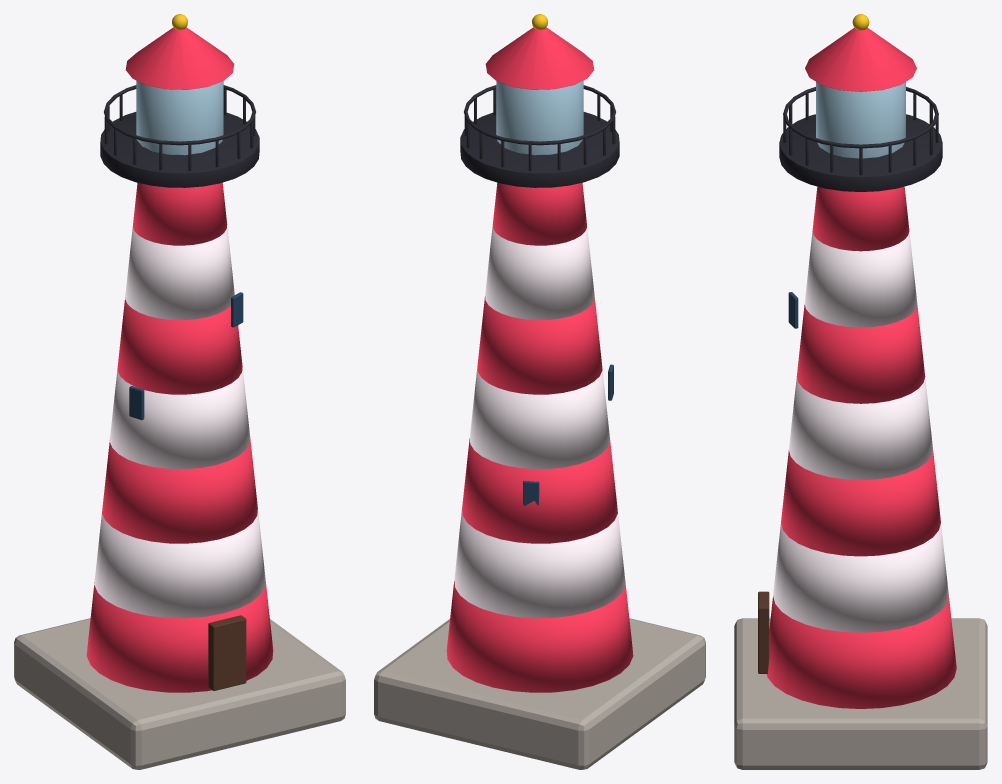
The model's file is mercusuar.glb.
3 renders of one model, left to right at view 1: azimuth 30°, elevation 25°; view 2: azimuth 150°, elevation 25°; view 3: azimuth 270°, elevation 25°, orthographic. The views are drawn at different scales.
Parts seen in each view (by area): view 1: Cube, Cone.001, Cone.002, Cone, Cone.003, Cone.004, Cone.005, Cylinder, Cylinder.017, Cone.006, Cone.007, Cube.005 (+1 smaller); view 2: Cube, Cone, Cone.001, Cone.002, Cone.003, Cone.004, Cone.005, Cylinder, Cylinder.017, Cone.006, Cone.007, Torus; view 3: Cube, Cone, Cone.001, Cone.002, Cone.003, Cone.004, Cone.005, Cylinder, Cylinder.017, Cone.006, Cone.007, Torus (+1 smaller).
Part boxes in pixels (x1=…): Cube: x1=14, y1=618, x2=345, y2=769; Cone.001: x1=94, y1=510, x2=265, y2=618; Cone.002: x1=102, y1=438, x2=257, y2=543; Cone: x1=86, y1=581, x2=273, y2=692; Cone.003: x1=109, y1=367, x2=250, y2=469; Cone.004: x1=117, y1=297, x2=242, y2=394; Cone.005: x1=125, y1=225, x2=234, y2=320; Cylinder: x1=100, y1=112, x2=259, y2=187; Cylinder.017: x1=136, y1=80, x2=223, y2=155; Cone.006: x1=133, y1=182, x2=227, y2=245; Cone.007: x1=125, y1=27, x2=234, y2=89; Cube.005: x1=208, y1=615, x2=246, y2=690; Cube: x1=374, y1=618, x2=705, y2=769; Cone: x1=446, y1=581, x2=633, y2=692; Cone.001: x1=454, y1=510, x2=625, y2=618; Cone.002: x1=462, y1=438, x2=617, y2=543; Cone.003: x1=469, y1=367, x2=610, y2=469; Cone.004: x1=477, y1=296, x2=602, y2=394; Cone.005: x1=485, y1=225, x2=594, y2=320; Cylinder: x1=460, y1=112, x2=619, y2=187; Cylinder.017: x1=496, y1=80, x2=583, y2=155; Cone.006: x1=492, y1=182, x2=586, y2=245; Cone.007: x1=485, y1=27, x2=594, y2=89; Torus: x1=464, y1=85, x2=615, y2=145; Cube: x1=734, y1=618, x2=987, y2=769; Cone: x1=766, y1=596, x2=956, y2=708; Cone.001: x1=773, y1=523, x2=948, y2=632; Cone.002: x1=781, y1=450, x2=940, y2=556; Cone.003: x1=789, y1=377, x2=932, y2=479; Cone.004: x1=796, y1=304, x2=925, y2=403; Cone.005: x1=804, y1=231, x2=917, y2=327; Cylinder: x1=779, y1=114, x2=942, y2=191; Cylinder.017: x1=816, y1=82, x2=905, y2=158; Cone.006: x1=812, y1=186, x2=909, y2=251; Cone.007: x1=805, y1=27, x2=916, y2=91; Torus: x1=783, y1=87, x2=938, y2=148.
Size of the model in its own units: 9 by 27.6 by 9.
